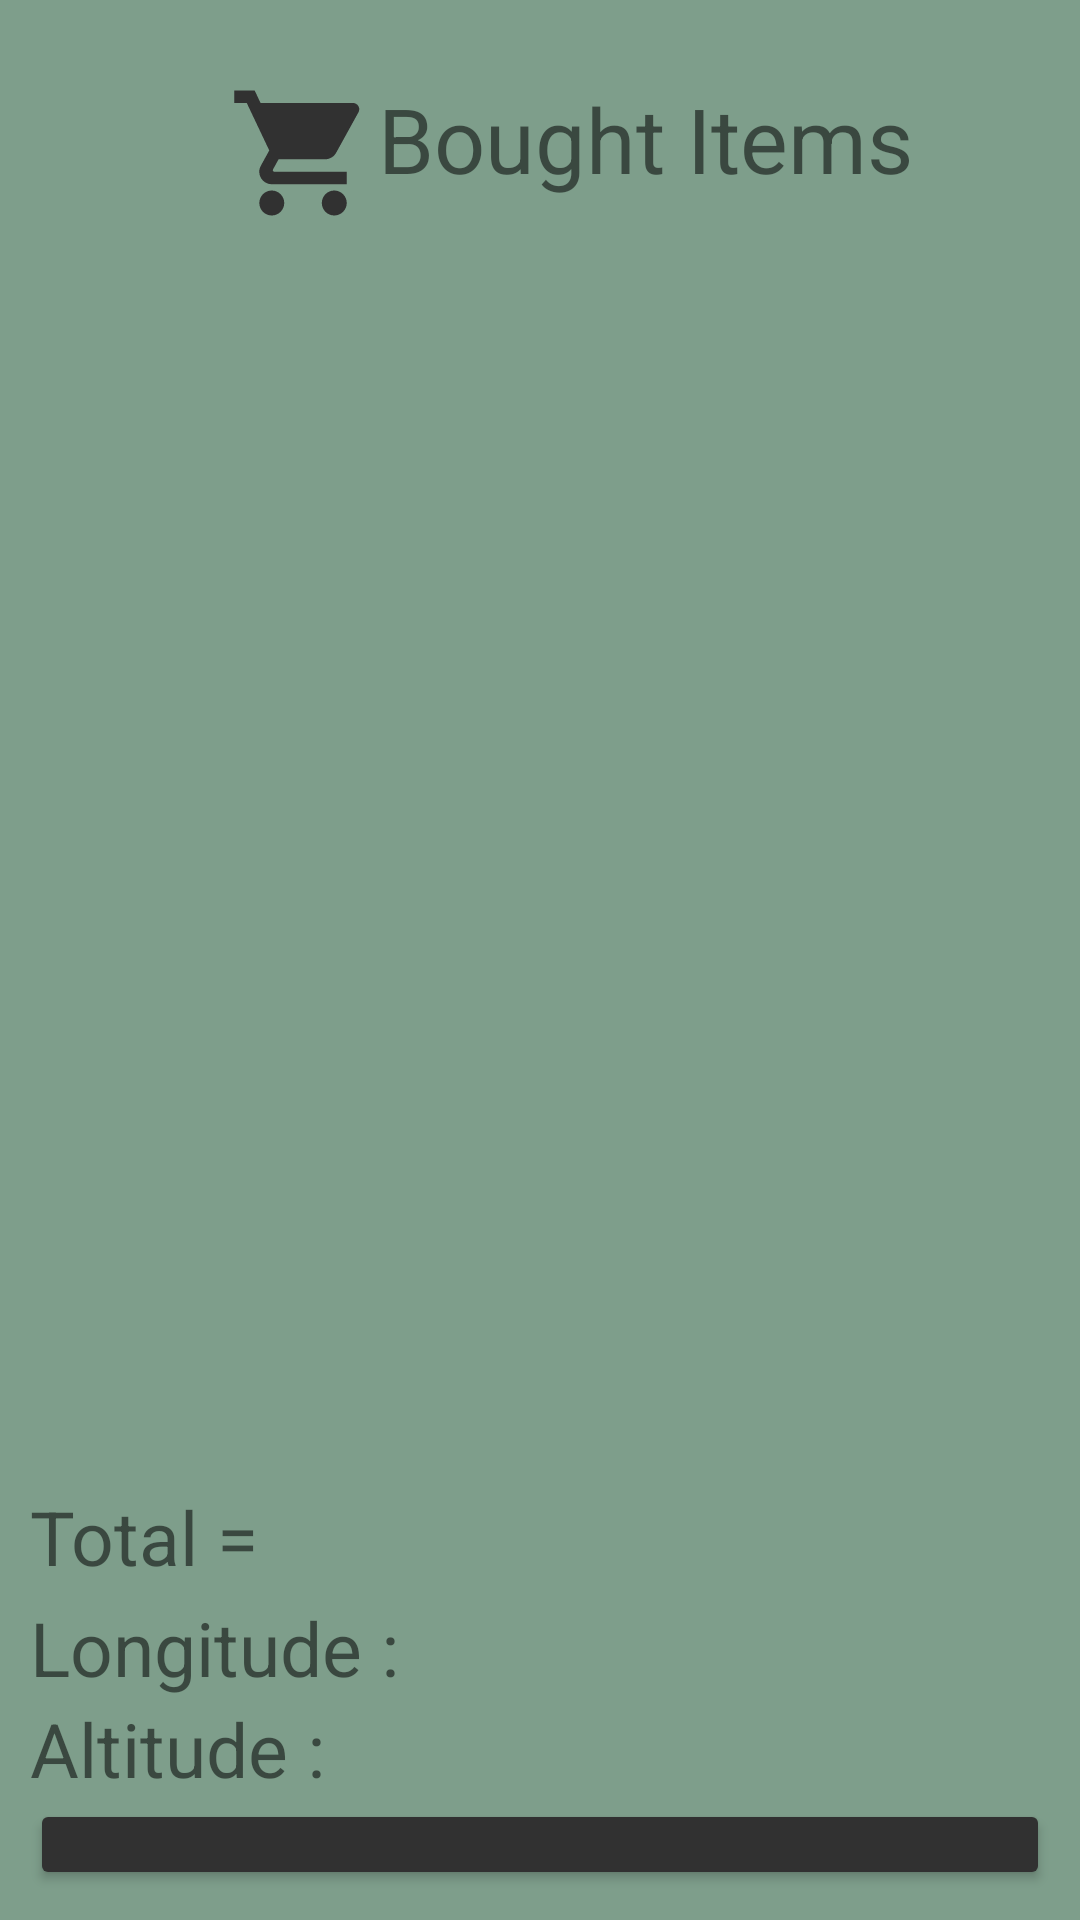

Icons on this 1080w x 1920h Android screen, each with the point to tap as [x,y]:
shopping: [297,153]
